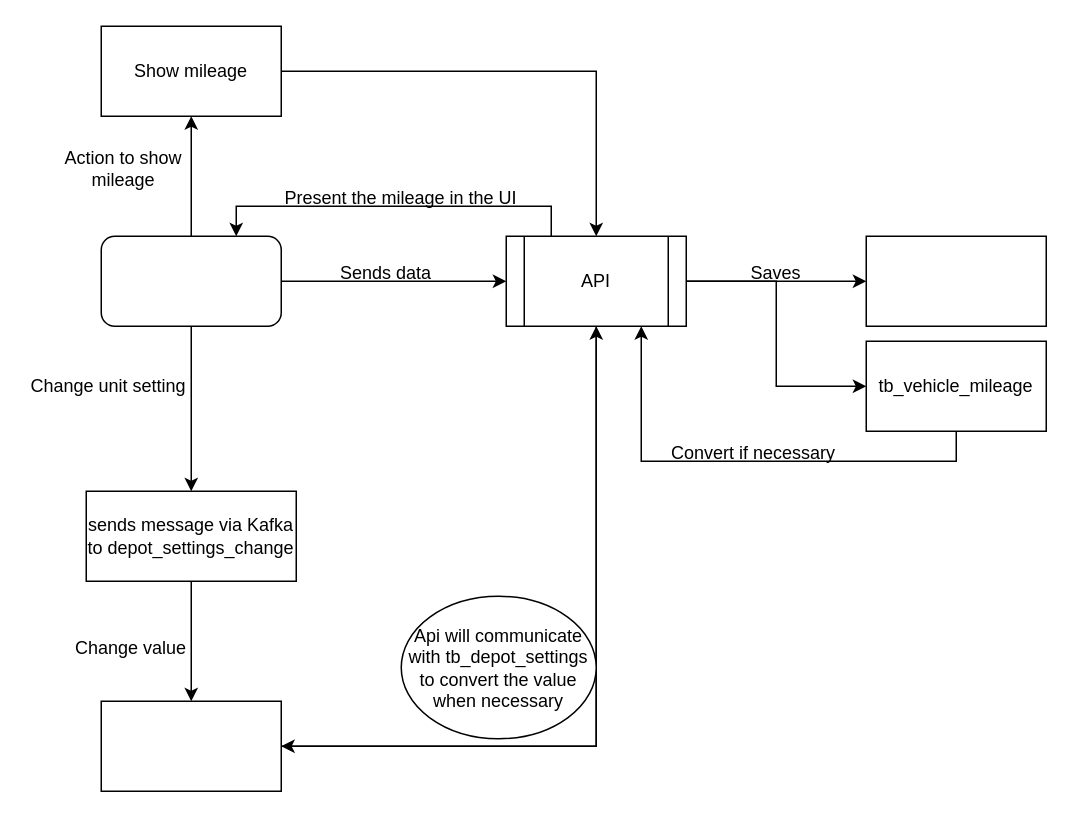
Some shapes in this 1073 by 818 pixel diagram are drawn without their labels. The shapes that lost their labels are listed below. From the top down, each one's centre as x and y in pixels, then its label:
At pixel 190 280: "Vehicles".
At pixel 955 280: "tb_gps".
At pixel 190 745: "tb_depot_settings".
